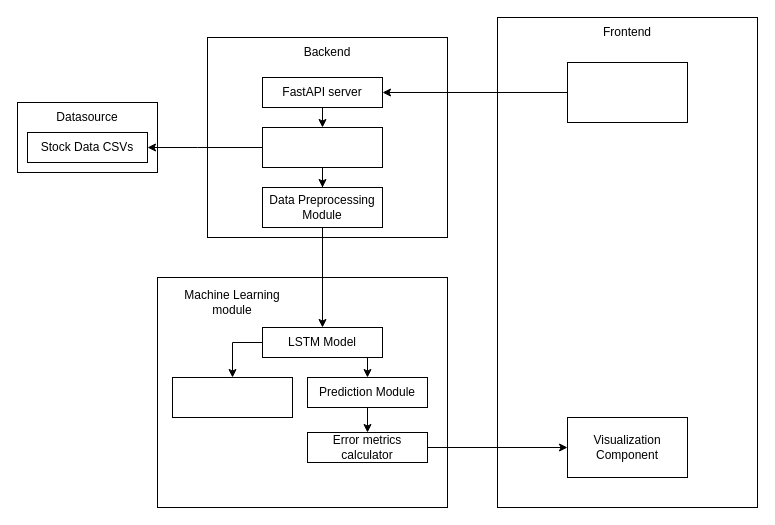
This 775x525 diagram has some shape labels left out. The shapes that lost their labels are listed below. From the top down, each one's centre as x and y in pixels, then its label:
At (x=627, y=92): "Search component".
At (x=322, y=147): "Data Retrieval Module".
At (x=232, y=397): "Model training module".
